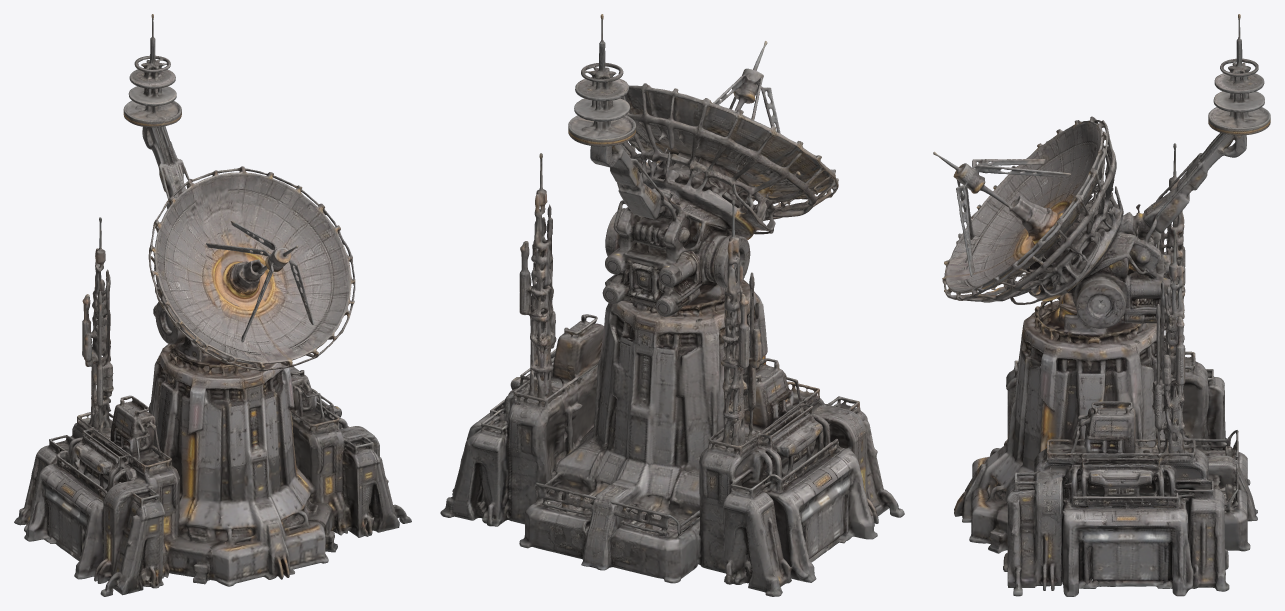
Rendered from radar.glb.
3 views of the same model, side by side, from view 1: azimuth 30°, elevation 25°; view 2: azimuth 150°, elevation 25°; view 3: azimuth 270°, elevation 25° (orthographic). The views are drawn at different scales.
Size of the model in its own units: 1.32 by 1.9 by 1.16.
Materials: 1 (1 with a texture image).
